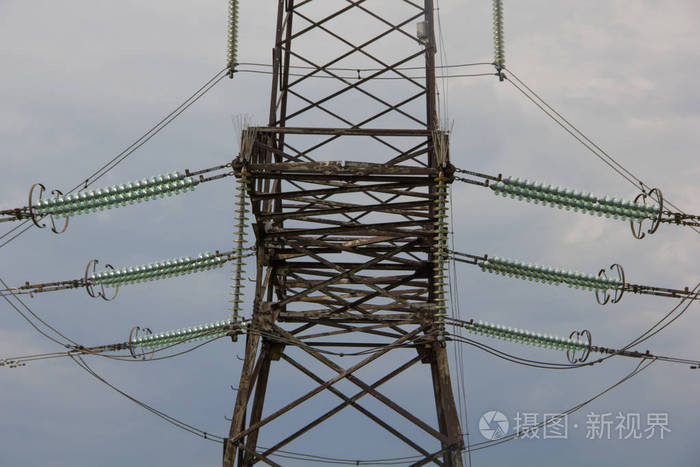insulator: (36, 170, 196, 223), (491, 176, 655, 222), (479, 255, 620, 294), (90, 250, 225, 286), (460, 320, 587, 354), (434, 176, 454, 332), (230, 170, 250, 322), (133, 319, 226, 350), (224, 1, 241, 62), (490, 1, 506, 63)
